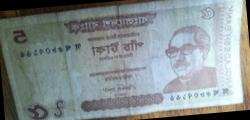5 taka: (11, 4, 234, 120)
